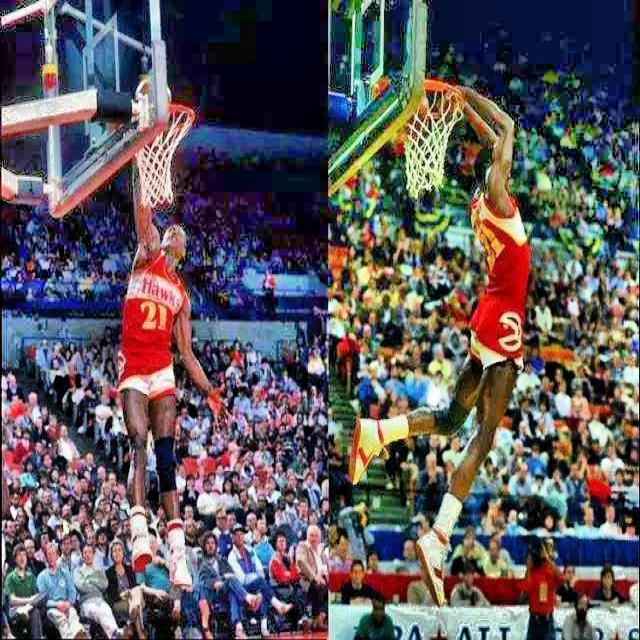rim: (399, 78, 459, 196), (133, 103, 195, 204)
